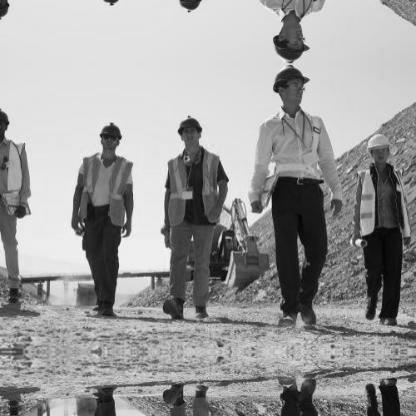helmet: (267, 16, 311, 65), (267, 64, 311, 113), (176, 112, 205, 153), (95, 119, 123, 155), (365, 131, 394, 165), (175, 0, 205, 17), (95, 0, 124, 10)
